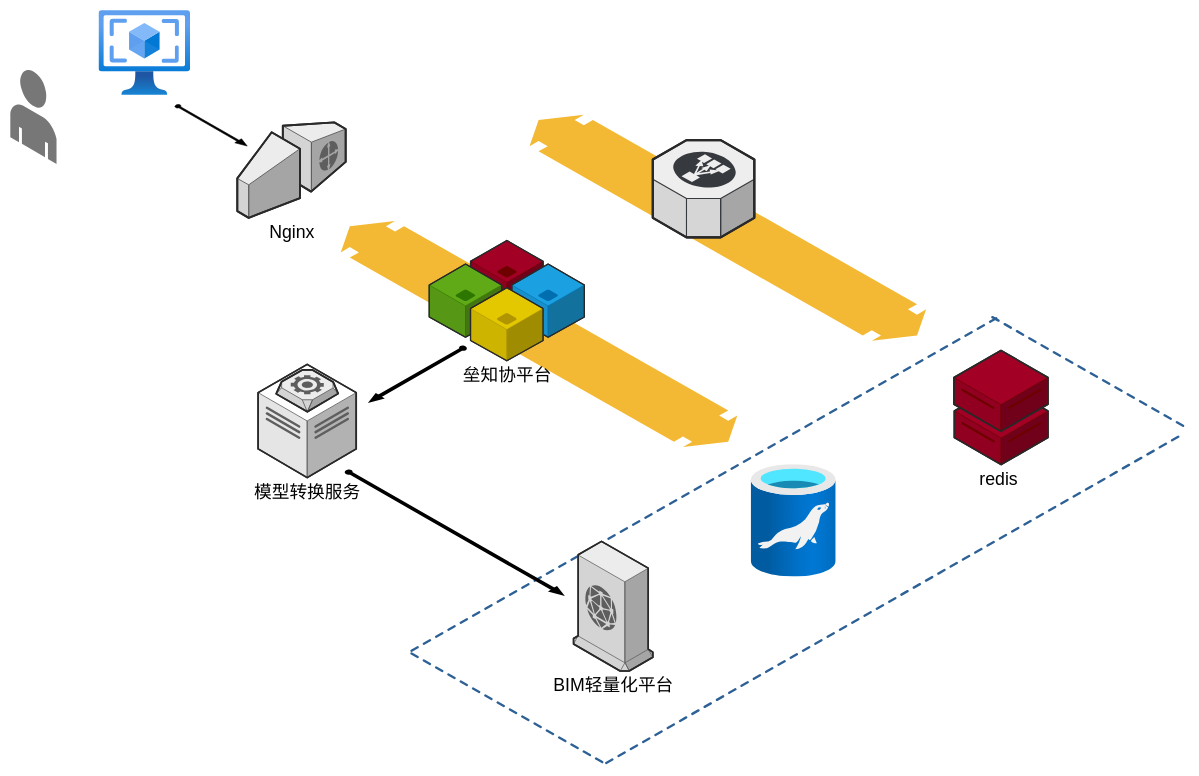
Some shapes in this 1199 by 776 pixel diagram are drawn without their labels. The shapes that lost their labels are listed below. From the top down, each one's centre as x and y in pixels, then its label:
At point (703, 188): "工作流平台".
At point (793, 520): "mysql".
